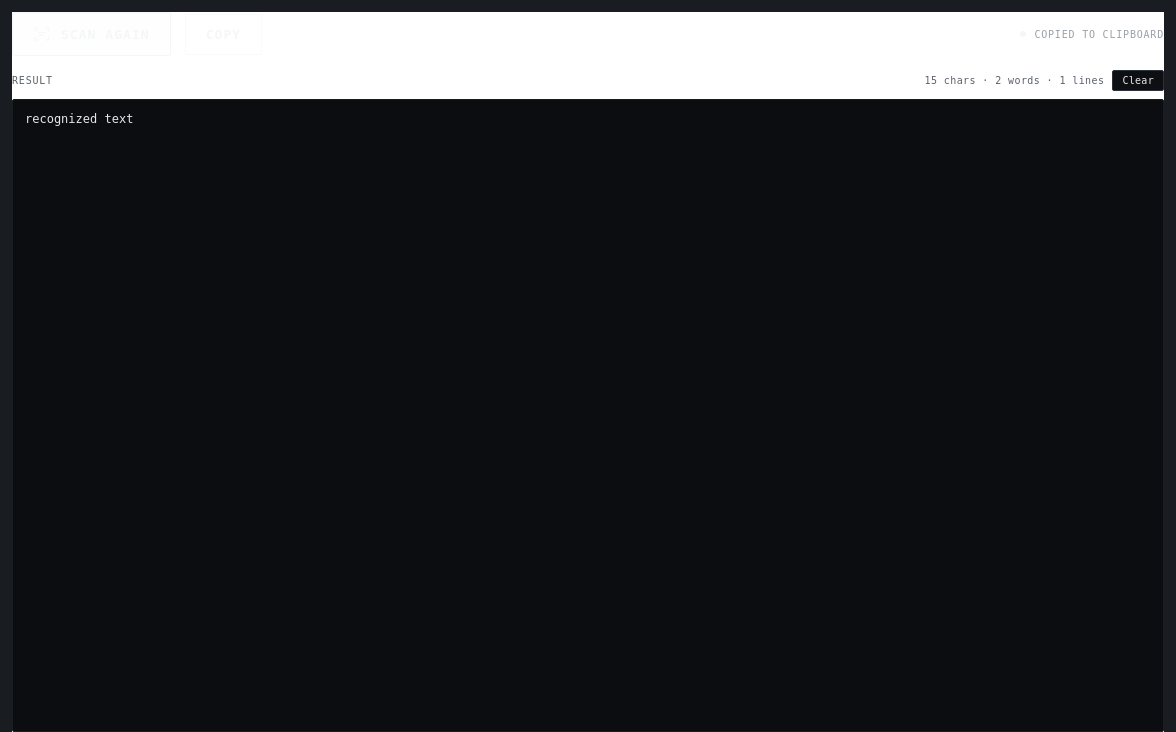
Test case: OcrPanel clearing › asks before discarding a scan
Click the button "Clear".
click(1138, 80)  # box [1112,70,1164,91]
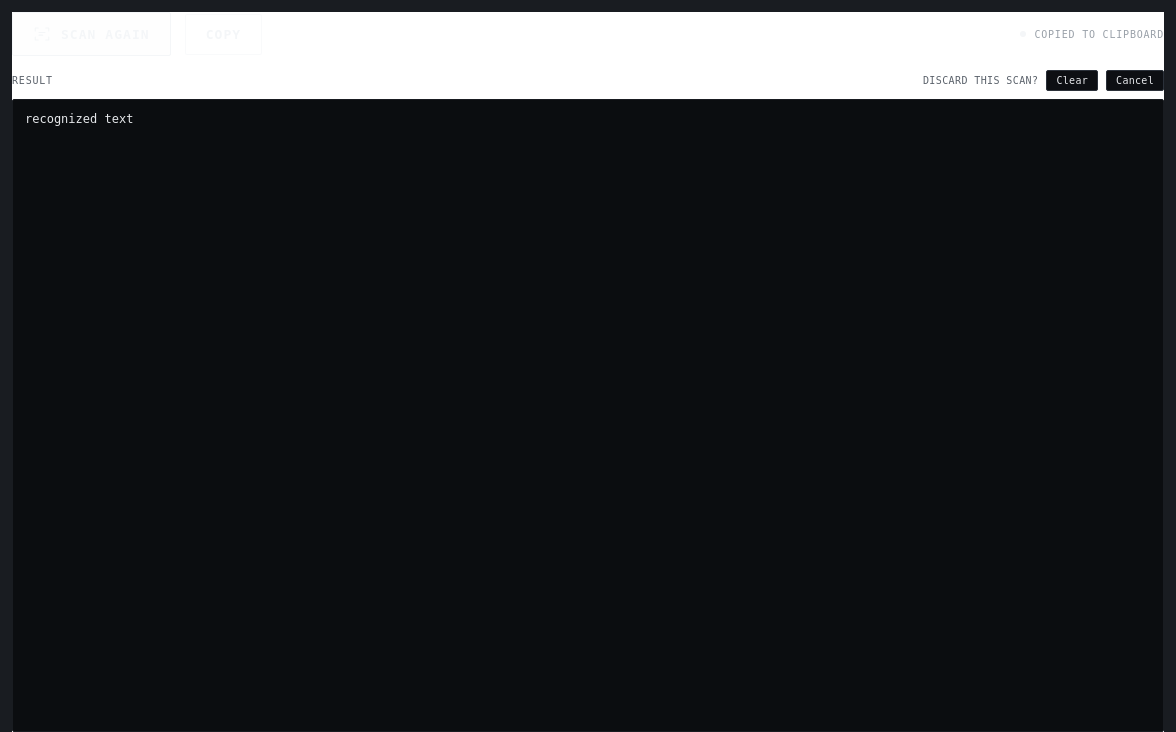
Now the text "DISCARD THIS SCAN?" is shown, box [923,75,1038,86]
